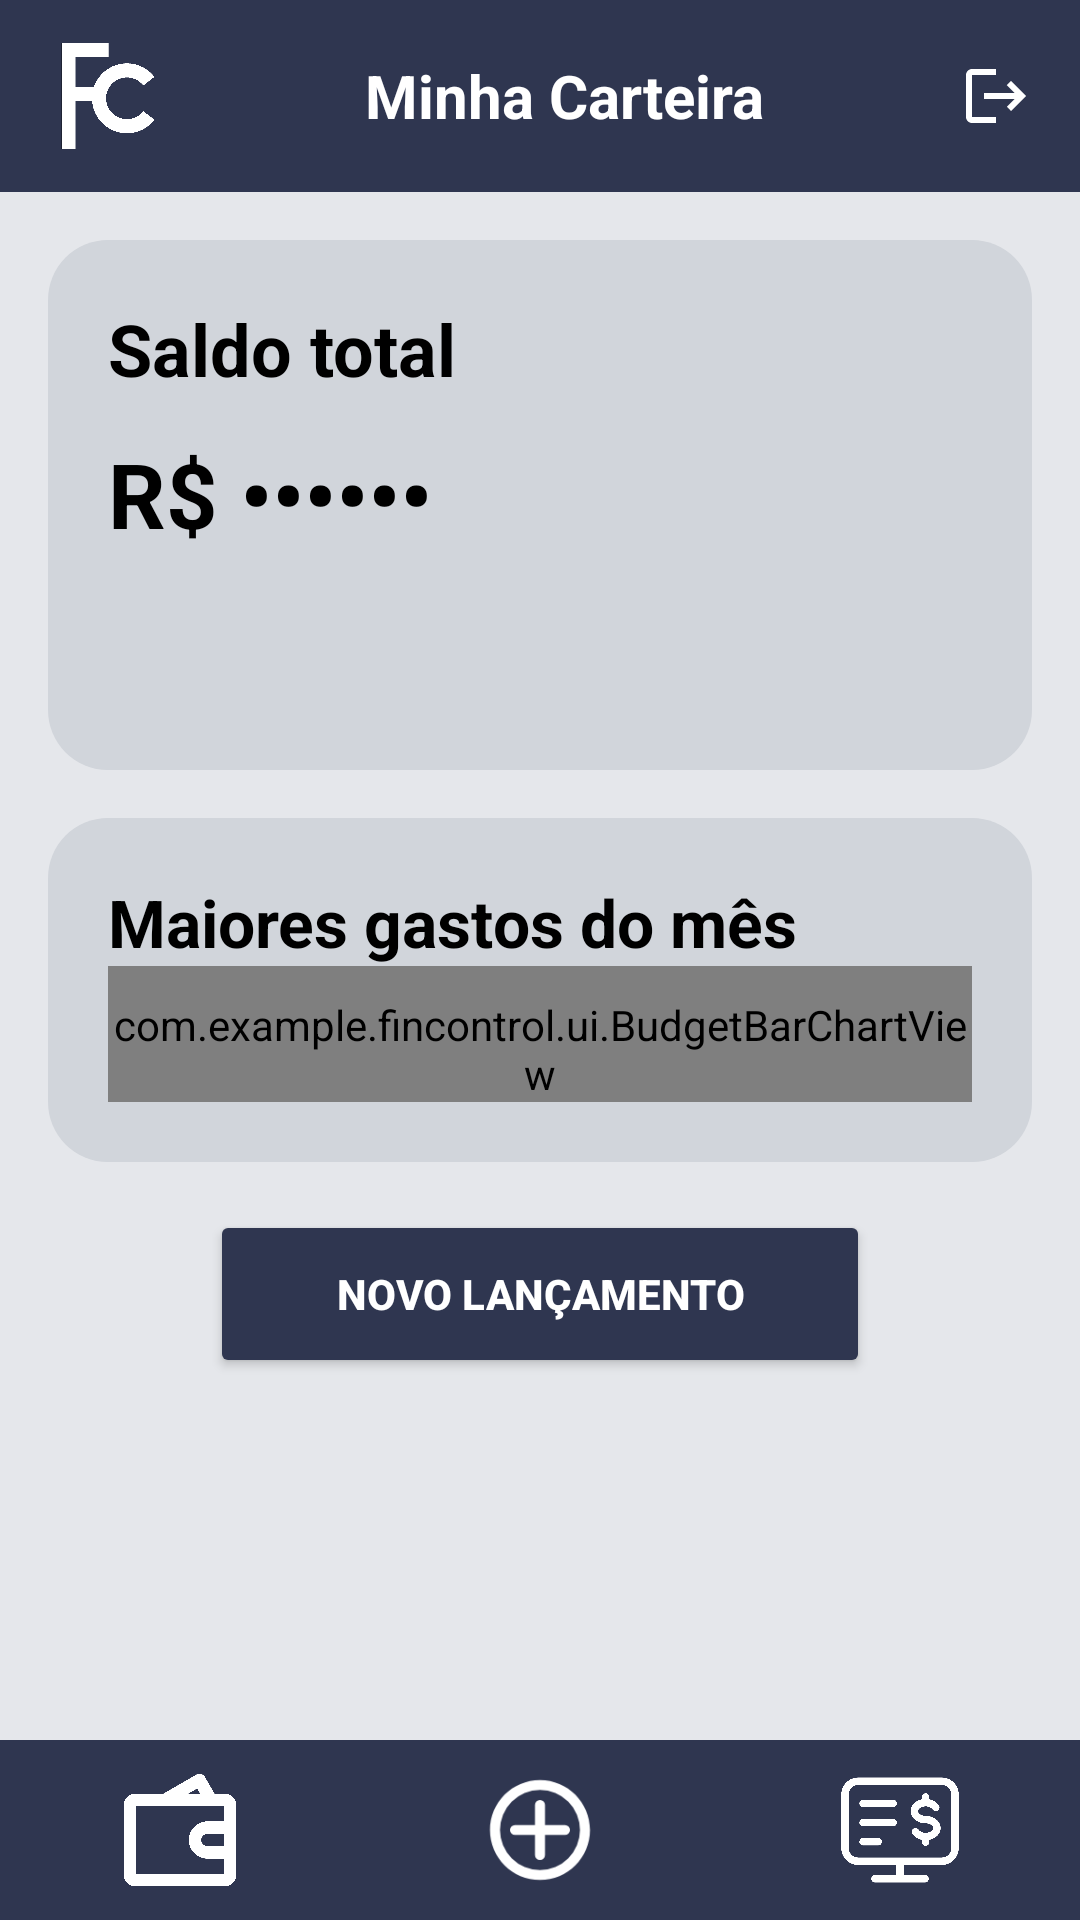

Named icons in this screenshot (1080px×1920px) and their bounding boxes, box=[x1, y1, x2, y2]:
adicionar: box=[489, 1779, 591, 1881]
carteira: box=[124, 1774, 236, 1886]
extrato: box=[841, 1777, 959, 1883]
